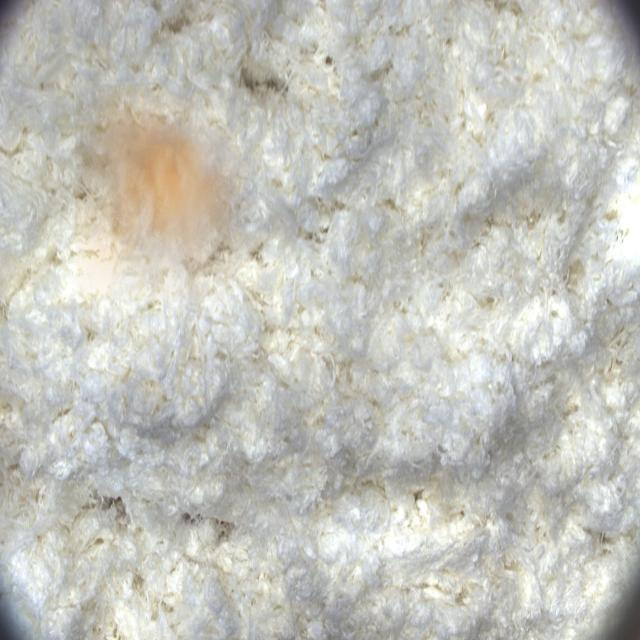dust: (76, 84, 251, 302)
